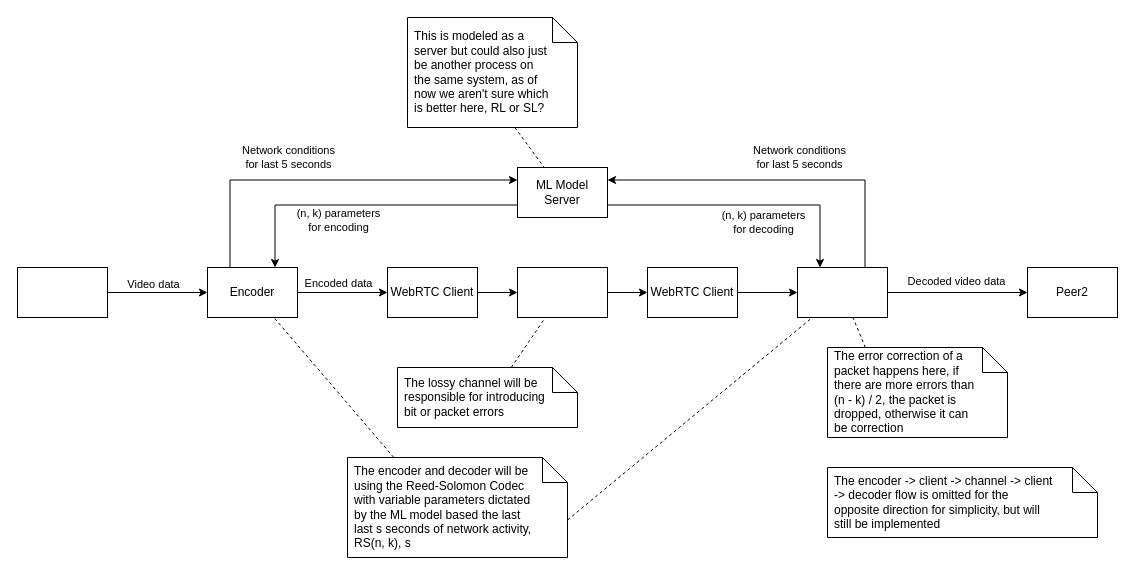
The diagram is 1135 pixels wide and 575 high, and some of its shapes have lost their labels. The shapes that lost their labels are listed below. From the top down, each one's box as (x1, y1, x2, y2) in pixels, then its label:
(16, 266, 108, 318): Peer1
(516, 266, 608, 318): Lossy Channel
(796, 266, 888, 318): Decoder
